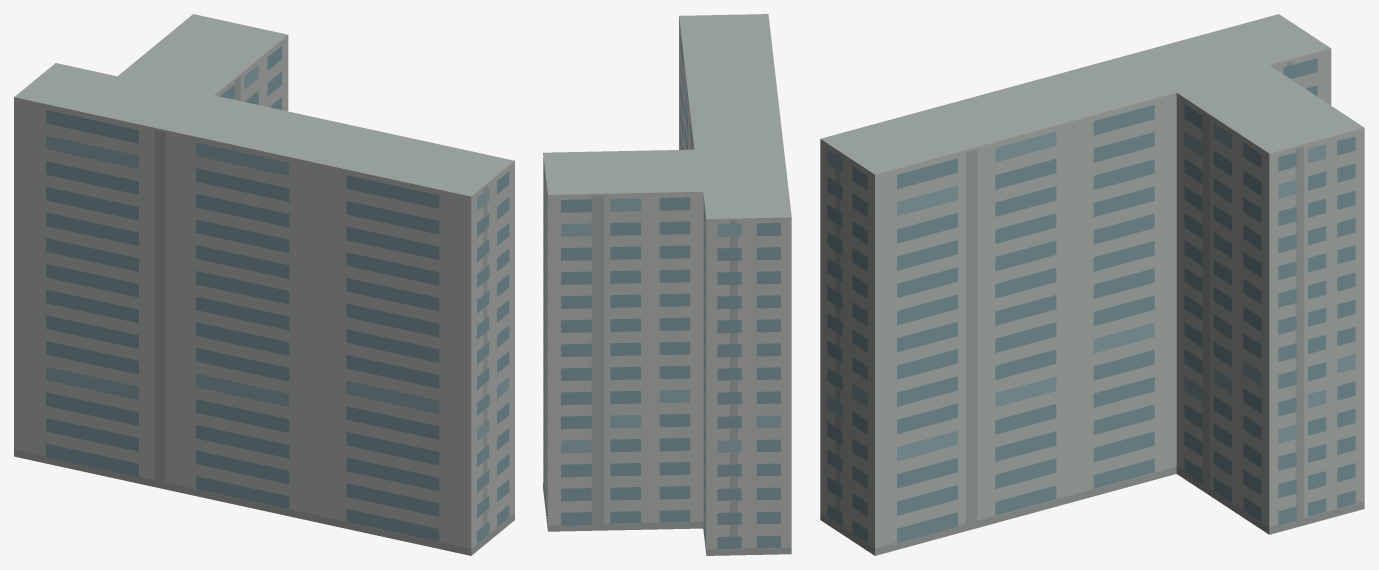
File: residential-8c3dae07-871a-4bb2-b1d0-c0e0ce95bfa0.glb
3 views of the same model, side by side, from view 1: azimuth 30°, elevation 25°; view 2: azimuth 150°, elevation 25°; view 3: azimuth 270°, elevation 25° (orthographic). The views are drawn at different scales.
Visible parts, largest first — view 1: residential-8c3dae07-871a-4bb2-b1d0-c0e0ce95bfa0.tmp; view 2: residential-8c3dae07-871a-4bb2-b1d0-c0e0ce95bfa0.tmp; view 3: residential-8c3dae07-871a-4bb2-b1d0-c0e0ce95bfa0.tmp.
Boxes of the visible parts, left/top/right/bottom form: residential-8c3dae07-871a-4bb2-b1d0-c0e0ce95bfa0.tmp: left=14, top=14, right=514, bottom=555; residential-8c3dae07-871a-4bb2-b1d0-c0e0ce95bfa0.tmp: left=543, top=14, right=791, bottom=555; residential-8c3dae07-871a-4bb2-b1d0-c0e0ce95bfa0.tmp: left=820, top=14, right=1364, bottom=555.
Size of the model in its own units: 33.47 by 37 by 47.9.
